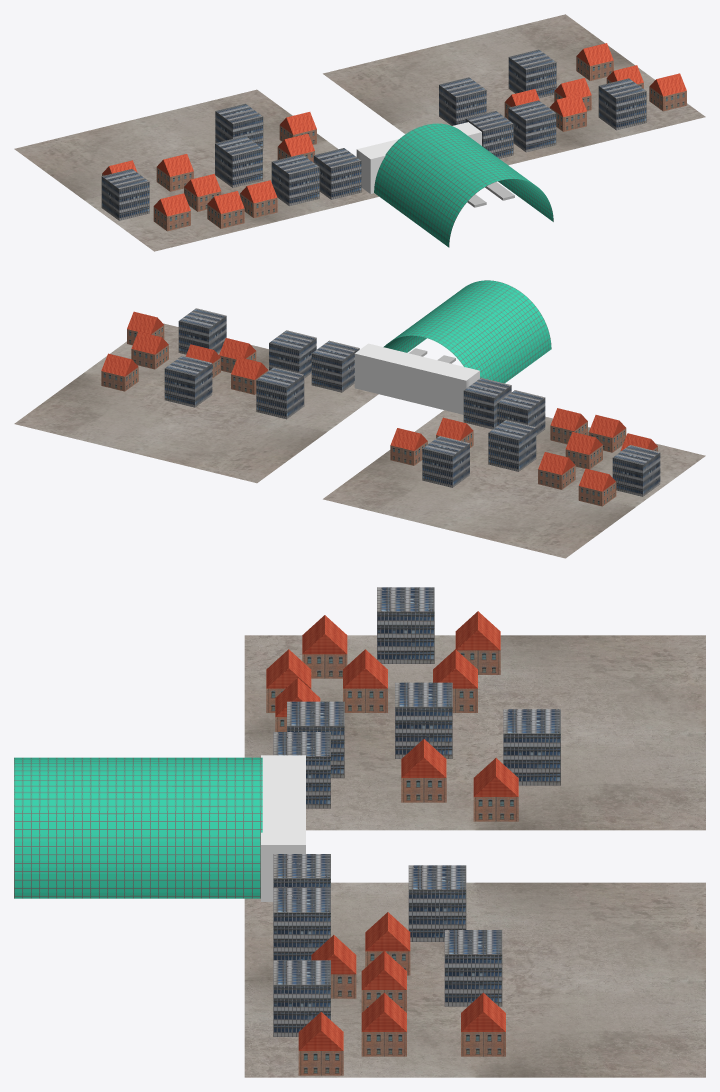
File: stazione0.obj
3 views of the same model, one above another, from view 1: azimuth 30°, elevation 25°; view 2: azimuth 150°, elevation 25°; view 3: azimuth 270°, elevation 25° (orthographic). The views are drawn at different scales.
Visible parts, largest first — view 1: Plane, Plane.001, Cylinder.005_Cylinder, Cube.039, Cube.018, Cube.040, Cube.017, Cube.016_Cube.014, Cube.013_Cube.008, Cube.036, Cube.026_Cube.009, Cube.045 (+23 smaller); view 2: Plane, Plane.001, Cylinder.005_Cylinder, Cube.007_Cube, Cube.036, Cube.040, Cube.026_Cube.009, Cube.045, Cube.039, Cube.012_Cube.007, Cube.018, Cube.013_Cube.008 (+21 smaller); view 3: Plane, Plane.001, Cylinder.005_Cylinder, Cube.007_Cube, Cube.039, Cube.036, Cube.026_Cube.009, Cube.045, Cube.040, Cube.016_Cube.014, Cube.018, Cube.013_Cube.008 (+24 smaller).
Part boxes in pixels (x1=…): Plane: x1=323, y1=14, x2=705, y2=165; Plane.001: x1=14, y1=89, x2=378, y2=251; Cylinder.005_Cylinder: x1=374, y1=123, x2=553, y2=247; Cube.039: x1=101, y1=169, x2=149, y2=220; Cube.018: x1=598, y1=78, x2=646, y2=130; Cube.040: x1=215, y1=136, x2=262, y2=187; Cube.017: x1=271, y1=154, x2=319, y2=205; Cube.016_Cube.014: x1=508, y1=100, x2=556, y2=152; Cube.013_Cube.008: x1=313, y1=148, x2=361, y2=199; Cube.036: x1=508, y1=49, x2=556, y2=98; Cube.026_Cube.009: x1=439, y1=77, x2=486, y2=125; Cube.045: x1=215, y1=103, x2=263, y2=148; Plane: x1=14, y1=323, x2=378, y2=483; Plane.001: x1=323, y1=410, x2=705, y2=558; Cylinder.005_Cylinder: x1=383, y1=280, x2=551, y2=383; Cube.007_Cube: x1=354, y1=343, x2=479, y2=414; Cube.036: x1=164, y1=355, x2=212, y2=407; Cube.040: x1=488, y1=420, x2=536, y2=471; Cube.026_Cube.009: x1=256, y1=367, x2=304, y2=419; Cube.045: x1=422, y1=436, x2=469, y2=487; Cube.039: x1=612, y1=445, x2=660, y2=496; Cube.012_Cube.007: x1=311, y1=340, x2=359, y2=392; Cube.018: x1=178, y1=308, x2=226, y2=354; Cube.013_Cube.008: x1=463, y1=377, x2=511, y2=429; Plane: x1=244, y1=882, x2=705, y2=1077; Plane.001: x1=244, y1=635, x2=705, y2=830; Cylinder.005_Cylinder: x1=14, y1=757, x2=262, y2=898; Cube.007_Cube: x1=261, y1=755, x2=305, y2=901; Cube.039: x1=377, y1=587, x2=434, y2=663; Cube.036: x1=444, y1=930, x2=502, y2=1006; Cube.026_Cube.009: x1=408, y1=865, x2=466, y2=941; Cube.045: x1=503, y1=709, x2=560, y2=785; Cube.040: x1=395, y1=682, x2=452, y2=758; Cube.016_Cube.014: x1=273, y1=888, x2=330, y2=960; Cube.018: x1=273, y1=960, x2=330, y2=1036; Cube.013_Cube.008: x1=273, y1=732, x2=330, y2=808.
Bounding box in the file's own units: 1162 × 111 × 768.
